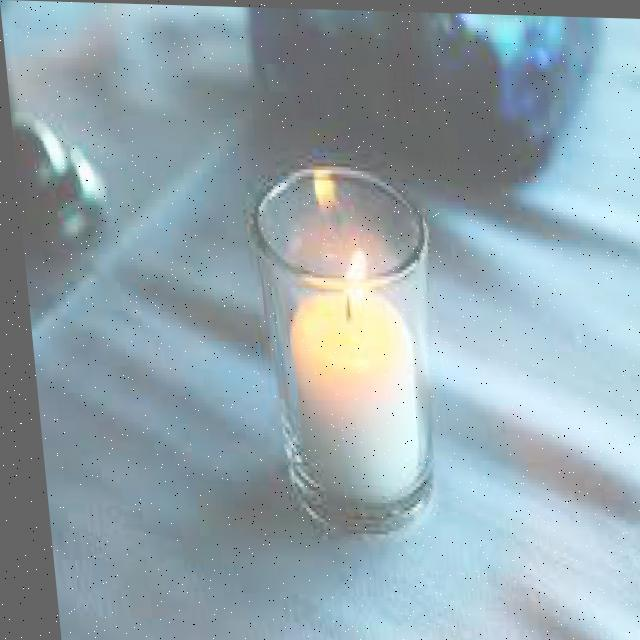Fire: (325, 242, 372, 308)
